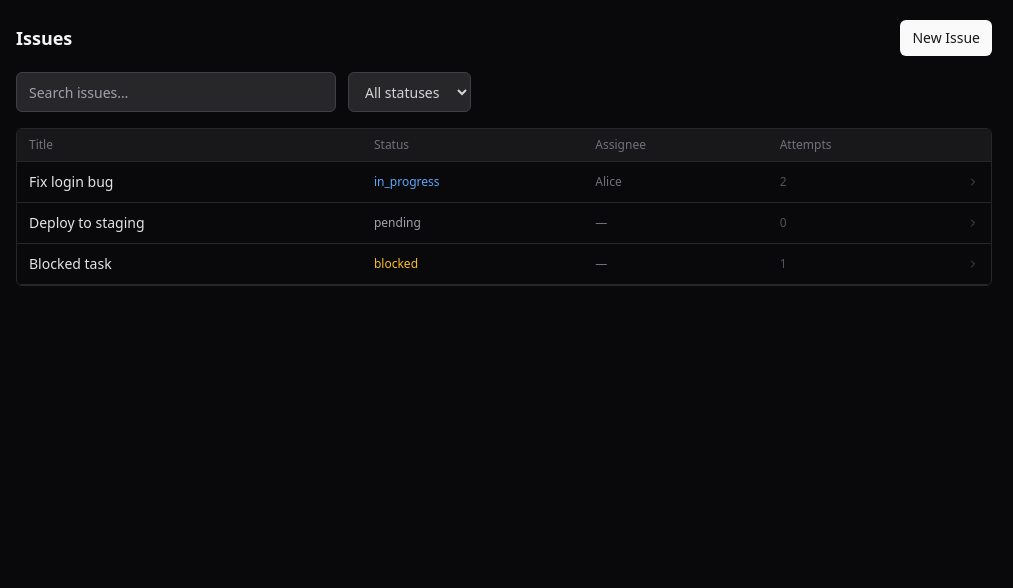
Test: New Issue form visibility › "New Issue" button shows form when clicked
Expected: the heading "Issues" is shown, [16,24,72,52]
Click the button "New Issue" at (946, 38), box [900,20,992,56]
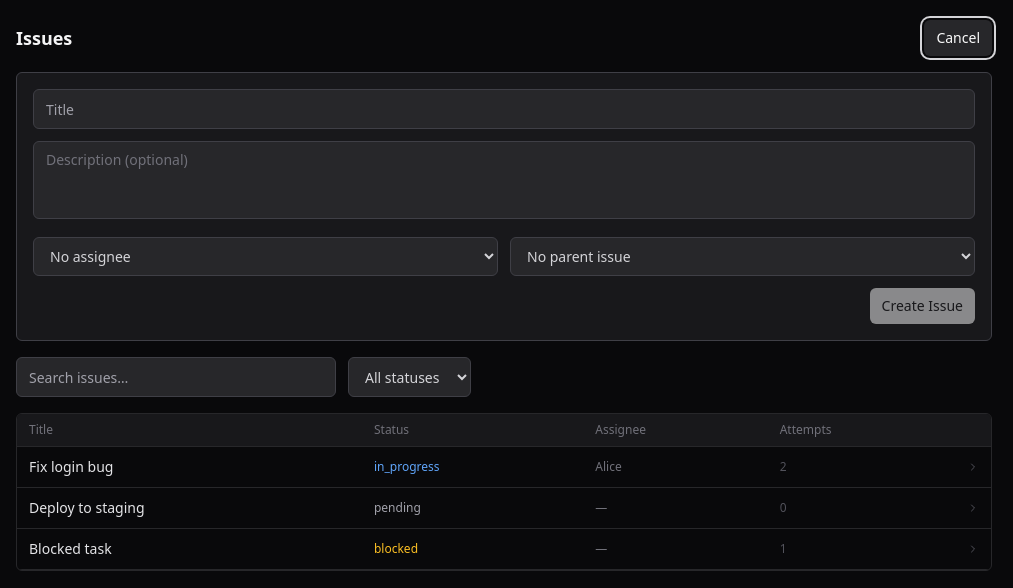
Now the field with placeholder "Title" is shown, box [33,89,975,129]
